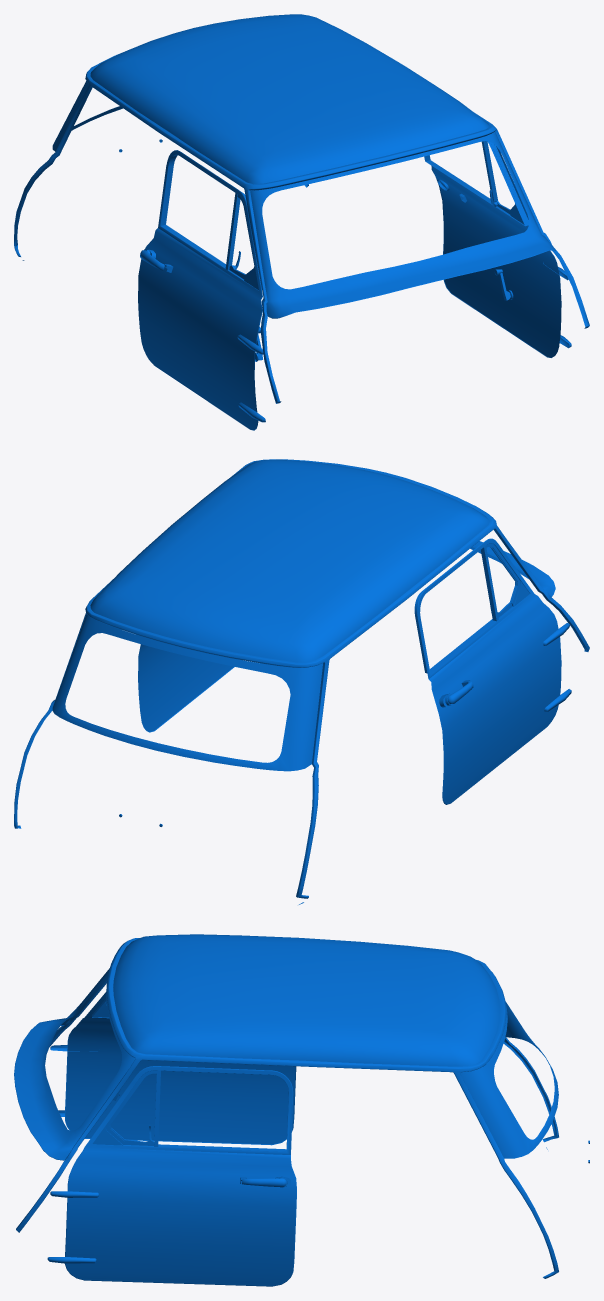
Rendered from Mini_Chassis_Duco.fbx.
3 views of the same model, one above another, from view 1: azimuth 30°, elevation 25°; view 2: azimuth 150°, elevation 25°; view 3: azimuth 270°, elevation 25° (orthographic). The views are drawn at different scales.
Parts seen in each view (by area): view 1: Mini_Chassis_Duco; view 2: Mini_Chassis_Duco; view 3: Mini_Chassis_Duco.
Boxes of the visible parts, x1,y1,x2,y2 form: Mini_Chassis_Duco: (14, 14, 589, 430); Mini_Chassis_Duco: (14, 459, 589, 904); Mini_Chassis_Duco: (14, 934, 589, 1286).
Size of the model in its own units: 142 by 106 by 229.
